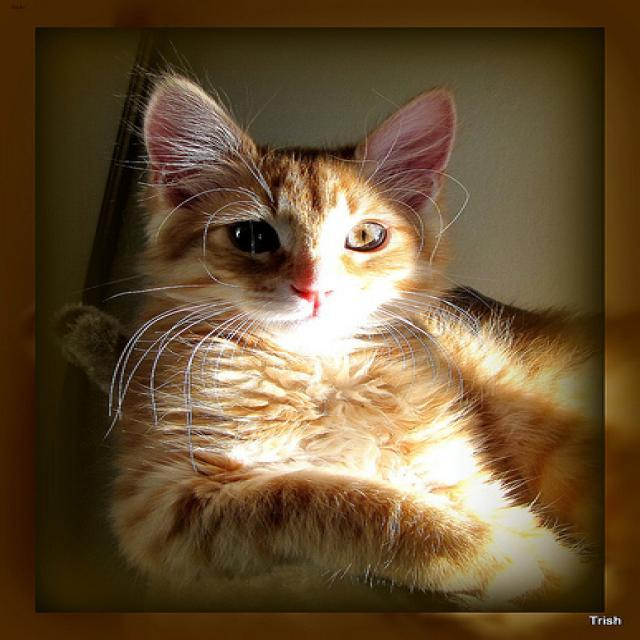Maine_Coon: (126, 68, 462, 360)
